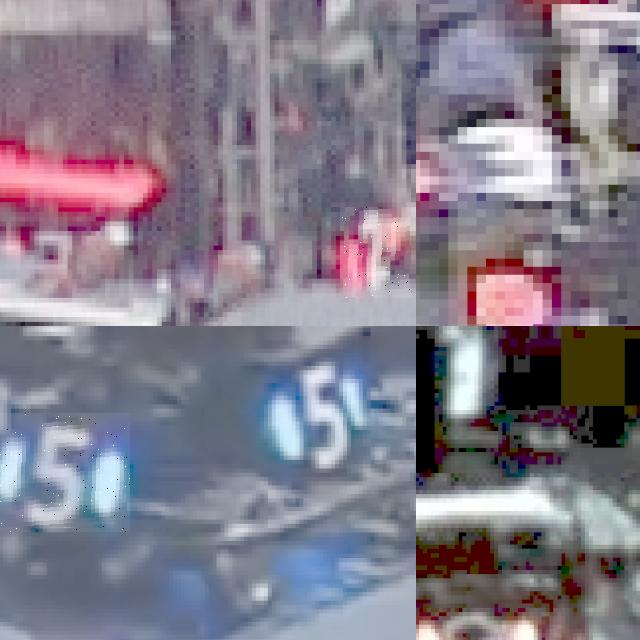B5: (0, 412, 129, 532), (276, 354, 374, 468)
R2: (340, 207, 411, 298)
Rs: (416, 616, 541, 640)
